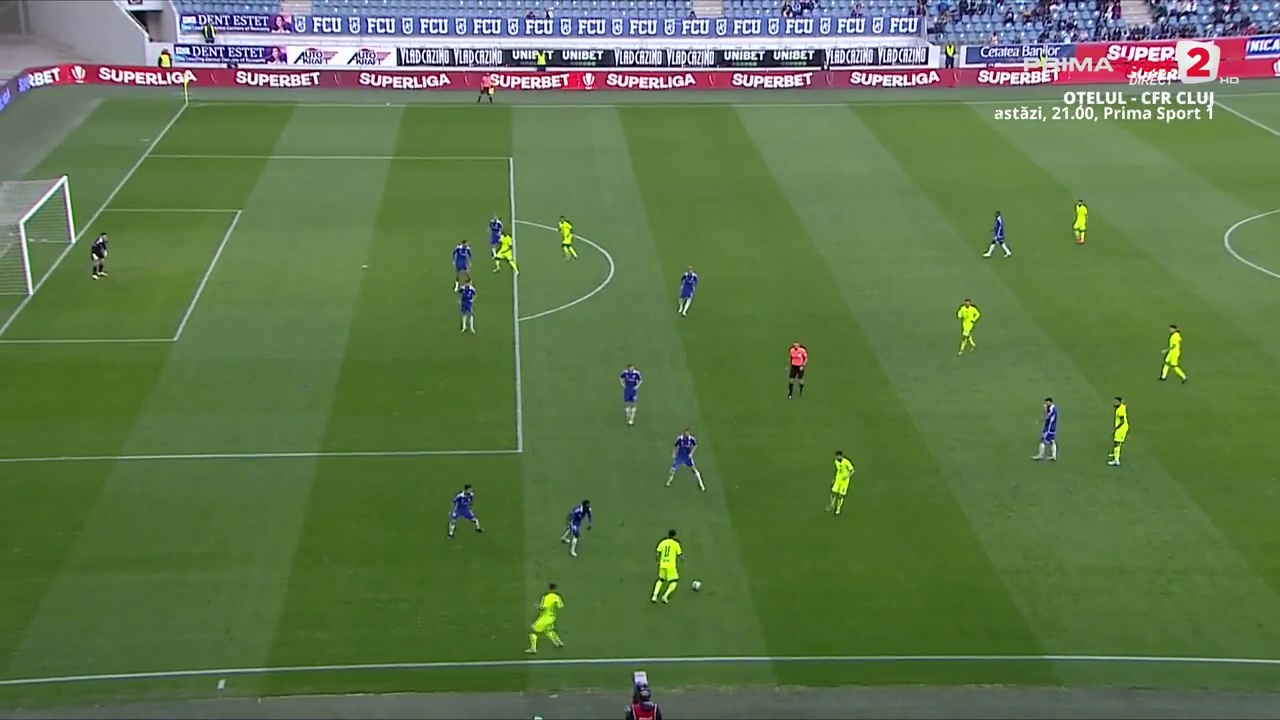ball: (612, 523, 635, 546)
